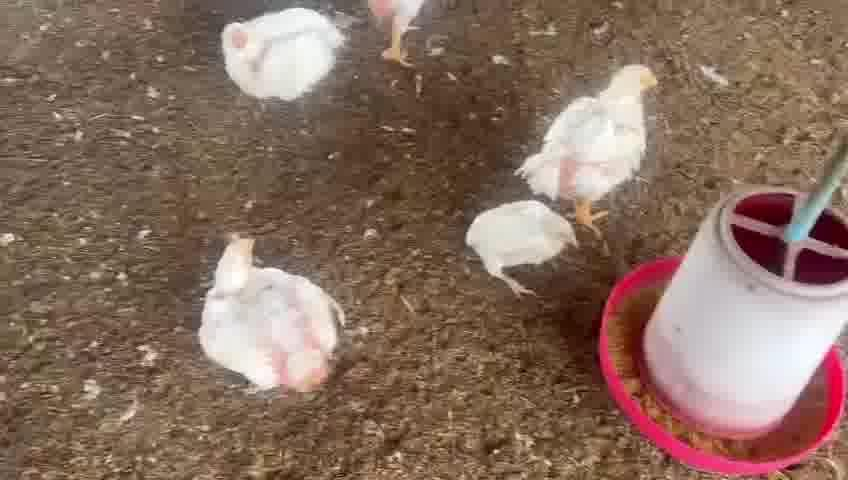AbNormal: (201, 240, 344, 396), (218, 8, 349, 102), (467, 199, 579, 298)
Normal: (524, 63, 658, 231)
